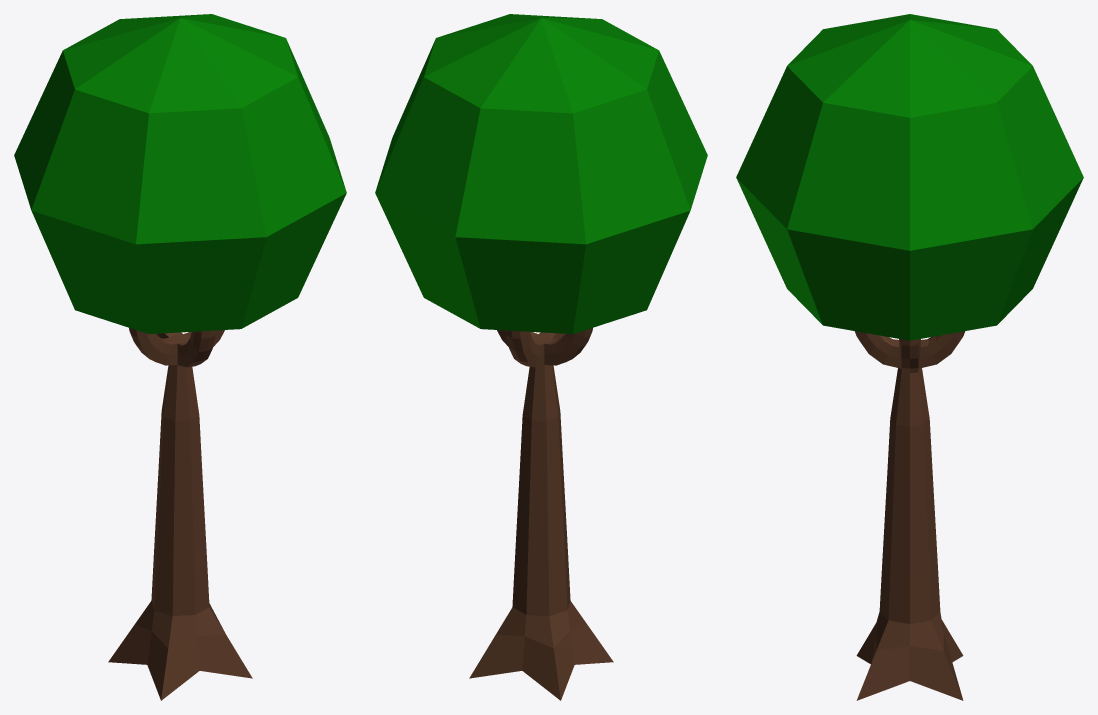
File: tree_01.glb
3 renders of one model, left to right at view 1: azimuth 30°, elevation 25°; view 2: azimuth 150°, elevation 25°; view 3: azimuth 270°, elevation 25°, orthographic.
Visible parts, largest first — view 1: Tree01; view 2: Tree01; view 3: Tree01.
Part boxes in pixels (x1,y1,x2,y2): Tree01: (14, 14, 346, 700); Tree01: (375, 14, 707, 700); Tree01: (736, 14, 1083, 700).
Bounding box in the file's own units: 5.27 × 11 × 5.27.
Materials: 1 (1 with a texture image).
